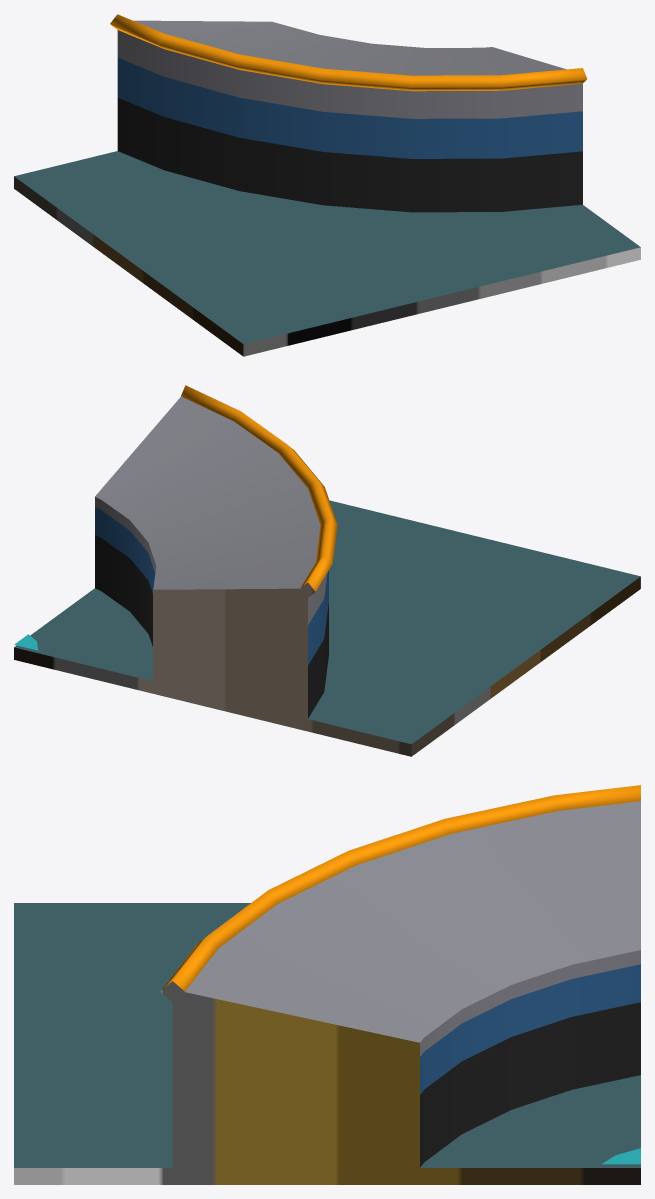
File: tile_2_0_7.gltf
The picture shows the model from 3 angles, top to bottom: view 1: azimuth 30°, elevation 25°; view 2: azimuth 150°, elevation 25°; view 3: azimuth 270°, elevation 25°; orthographic projection. The views are drawn at different scales.
Parts seen in each view (by area): view 1: grindcurve.01, ground, grindcurve.003; view 2: ground, grindcurve.01, grindcurve.003; view 3: grindcurve.01, ground, grindcurve.003.
Boxes of the visible parts, bbox=[...] form: grindcurve.01: bbox=[117, 20, 582, 212]; ground: bbox=[14, 151, 640, 356]; grindcurve.003: bbox=[110, 14, 587, 91]; ground: bbox=[14, 500, 640, 756]; grindcurve.01: bbox=[95, 396, 328, 718]; grindcurve.003: bbox=[181, 385, 337, 597]; grindcurve.01: bbox=[172, 801, 640, 1170]; ground: bbox=[14, 903, 640, 1184]; grindcurve.003: bbox=[160, 785, 640, 1002].
Size of what is drawn, in the model's own units: 8 by 2.87 by 8.
Materials: 2 (2 with a texture image).
